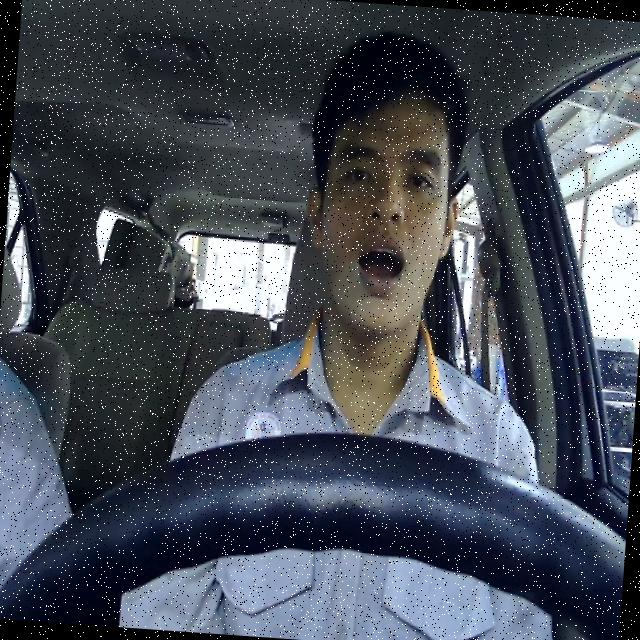yarning: (295, 85, 466, 342)
